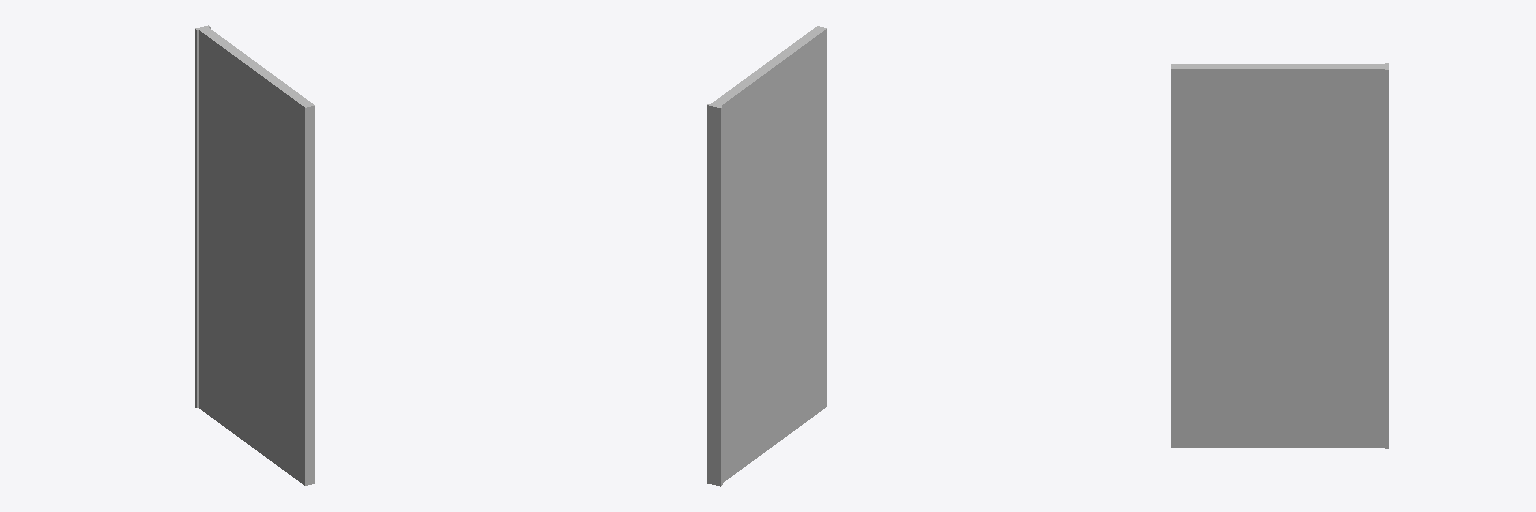
The model's file is elevatorDoor(right).obj.
3 renders of one model, left to right at view 1: azimuth 30°, elevation 25°; view 2: azimuth 150°, elevation 25°; view 3: azimuth 270°, elevation 25°, orthographic.
Visible parts, largest first — view 1: polySurface36 polySurface14; view 2: polySurface36 polySurface14; view 3: polySurface36 polySurface14.
Part boxes in pixels (left/top/right/bottom): polySurface36 polySurface14: left=195, top=25, right=314, bottom=485; polySurface36 polySurface14: left=707, top=26, right=826, bottom=486; polySurface36 polySurface14: left=1171, top=63, right=1388, bottom=448.
Bounding box in the file's own units: 0.1784 × 4.67 × 2.43.